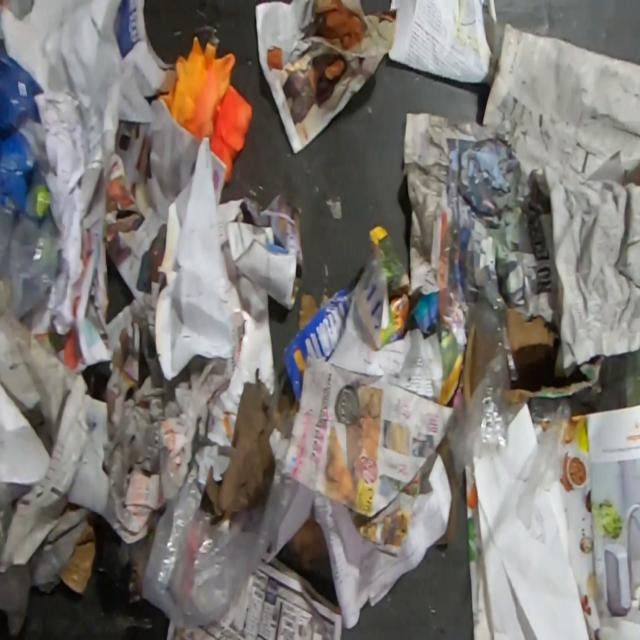cardboard: (0, 0, 178, 172), (200, 378, 300, 526), (504, 308, 607, 412), (57, 512, 108, 596), (432, 437, 462, 546), (286, 510, 329, 574), (297, 291, 320, 331), (462, 330, 474, 400)
soft_plastic: (139, 453, 302, 630), (0, 35, 65, 323), (443, 280, 526, 490), (512, 396, 575, 534), (157, 34, 237, 142)
